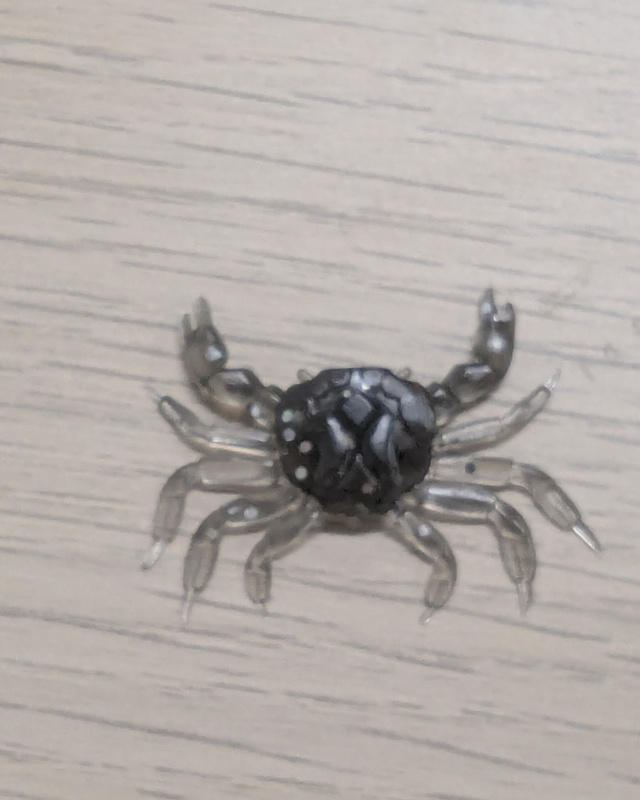crab1: (136, 285, 608, 632)
